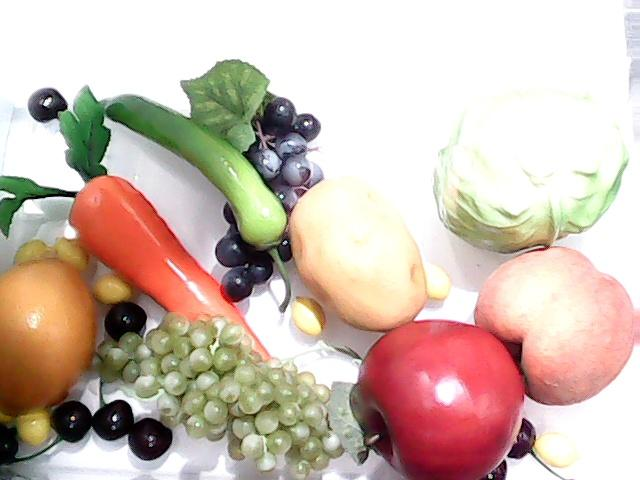apple: (346, 318, 532, 480)
cabbage: (430, 71, 632, 253)
carrot: (0, 87, 272, 362)
grape: (91, 310, 357, 478), (180, 56, 324, 302)
lemon: (1, 242, 111, 422)
peach: (466, 246, 640, 406)
pepper: (80, 76, 296, 244)
potato: (290, 176, 430, 334)
